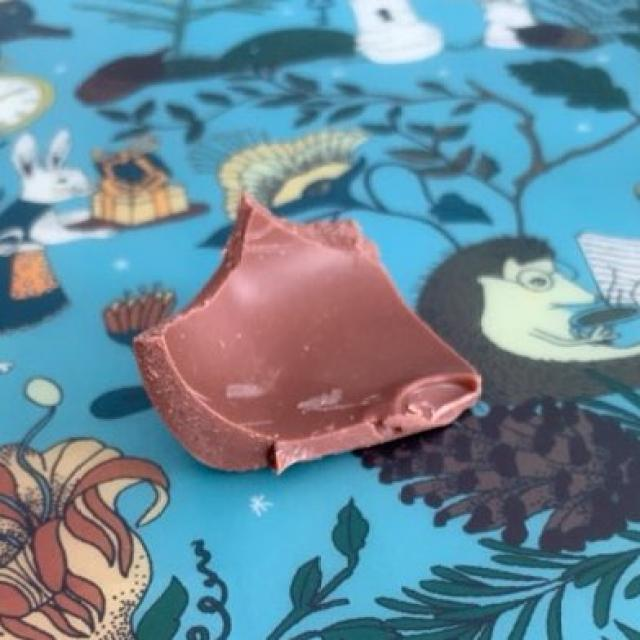milk-chocolate: (146, 202, 474, 466)
